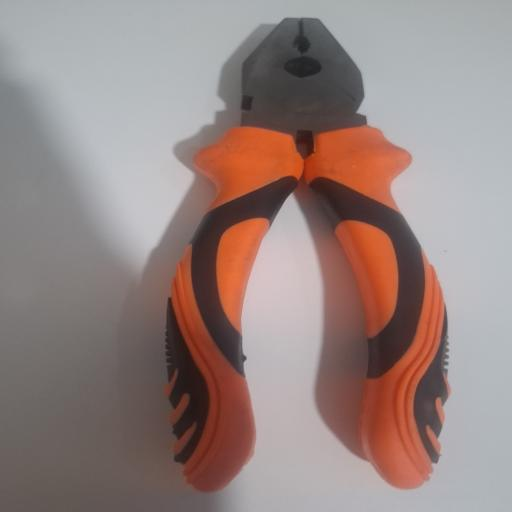alicate: (169, 16, 454, 496)
